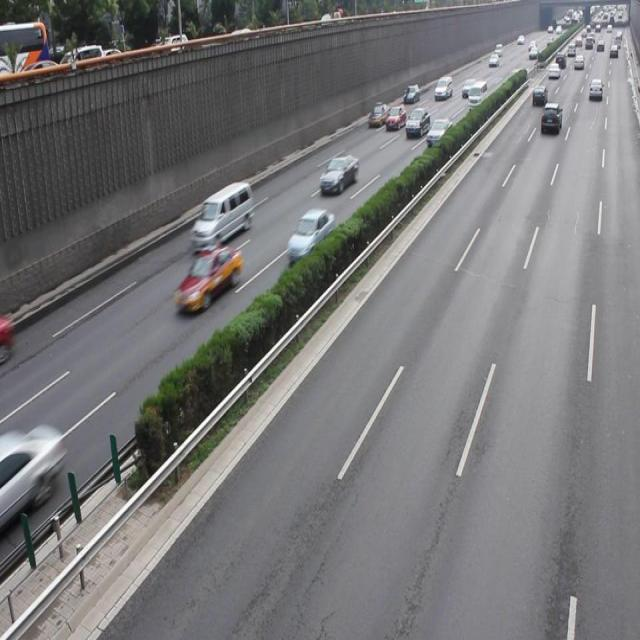car: (0, 424, 60, 530), (173, 243, 241, 315), (286, 208, 334, 261), (318, 154, 358, 196)
truck: (191, 180, 253, 244)
